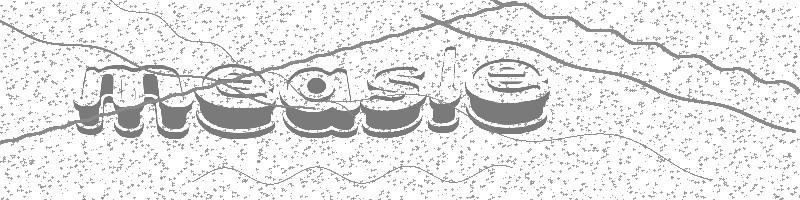a: (281, 67, 361, 138)
e: (465, 59, 551, 134), (195, 65, 276, 138)
l: (429, 47, 460, 133)
m: (73, 65, 194, 139)
s: (361, 67, 427, 137)
